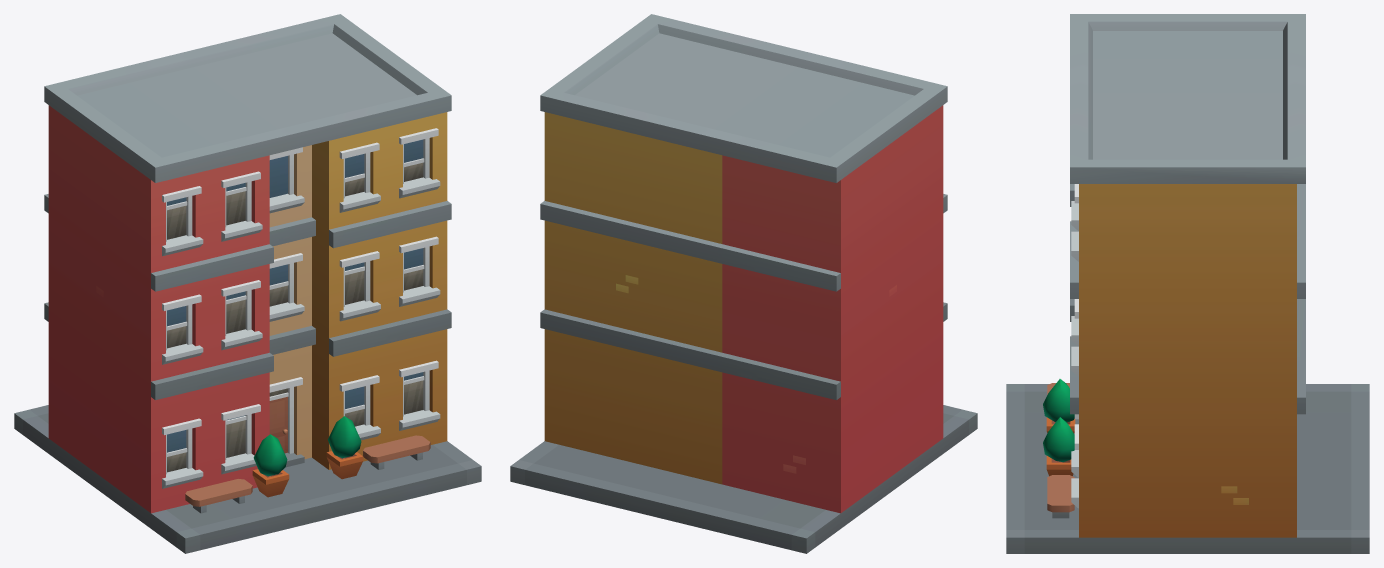
The model's file is party.glb.
The picture shows the model from 3 angles, left to right: view 1: azimuth 30°, elevation 25°; view 2: azimuth 150°, elevation 25°; view 3: azimuth 270°, elevation 25°; orthographic projection. The views are drawn at different scales.
Visible parts, largest first — view 1: building_F; view 2: building_F; view 3: building_F.
Part boxes in pixels (x1,y1,x2,y2): building_F: (14, 14, 481, 553); building_F: (510, 14, 977, 553); building_F: (1006, 14, 1369, 553).
Size of the model in its own units: 2.01 by 2.35 by 2.
1 material, 1 textured.
